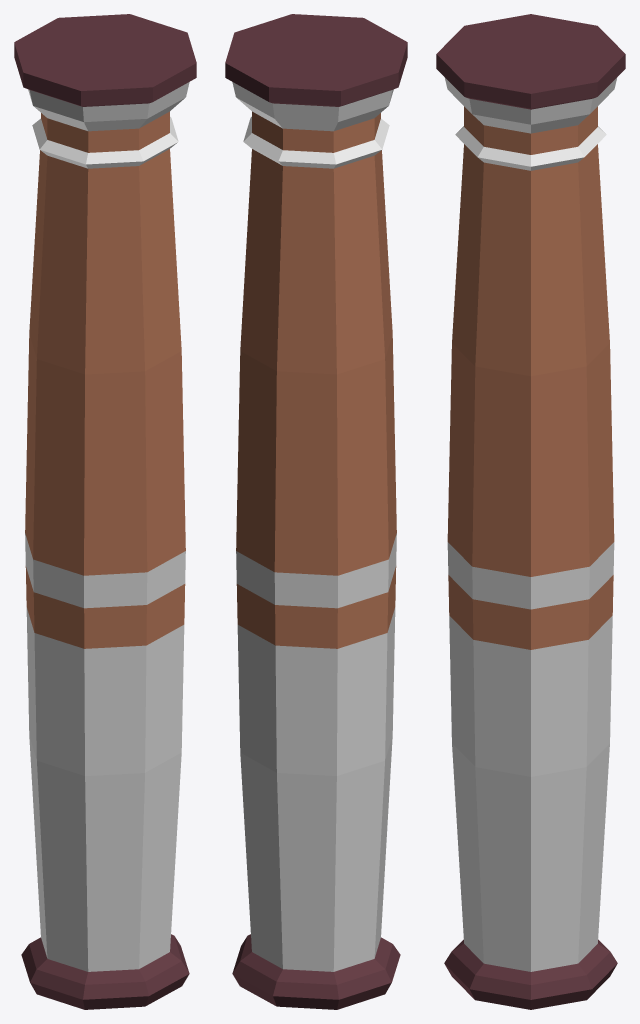
File: SM_Pillar_Tuscan_Big_Color_Empire.fbx
The picture shows the model from 3 angles, left to right: view 1: azimuth 30°, elevation 25°; view 2: azimuth 150°, elevation 25°; view 3: azimuth 270°, elevation 25°; orthographic projection.
Parts seen in each view (by area): view 1: SM_Pillar_Tuscan_Big_Color_Empire; view 2: SM_Pillar_Tuscan_Big_Color_Empire; view 3: SM_Pillar_Tuscan_Big_Color_Empire.
Boxes of the visible parts, <box> form: SM_Pillar_Tuscan_Big_Color_Empire: <box>14,14,196,1009</box>; SM_Pillar_Tuscan_Big_Color_Empire: <box>225,14,407,1009</box>; SM_Pillar_Tuscan_Big_Color_Empire: <box>436,14,625,1009</box>.
Bounding box in the file's own units: 1.86 × 10 × 1.86.
